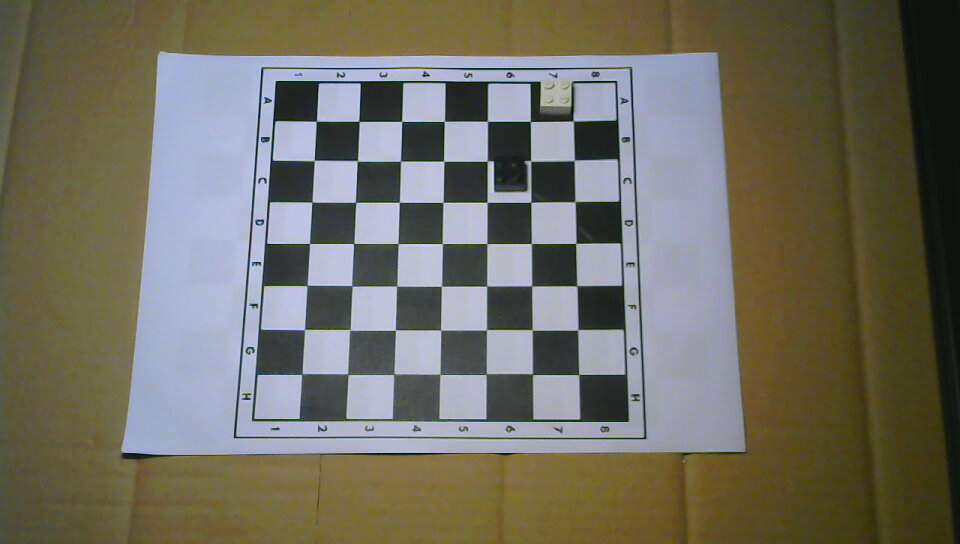bp: (492, 156, 529, 194)
wp: (538, 77, 574, 116)
